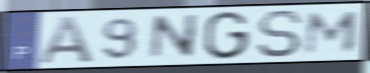9: (99, 16, 144, 61)
A: (36, 14, 98, 66)
G: (201, 10, 252, 62)
M: (301, 10, 363, 56)
N: (147, 13, 202, 62)
S: (255, 9, 305, 60)
